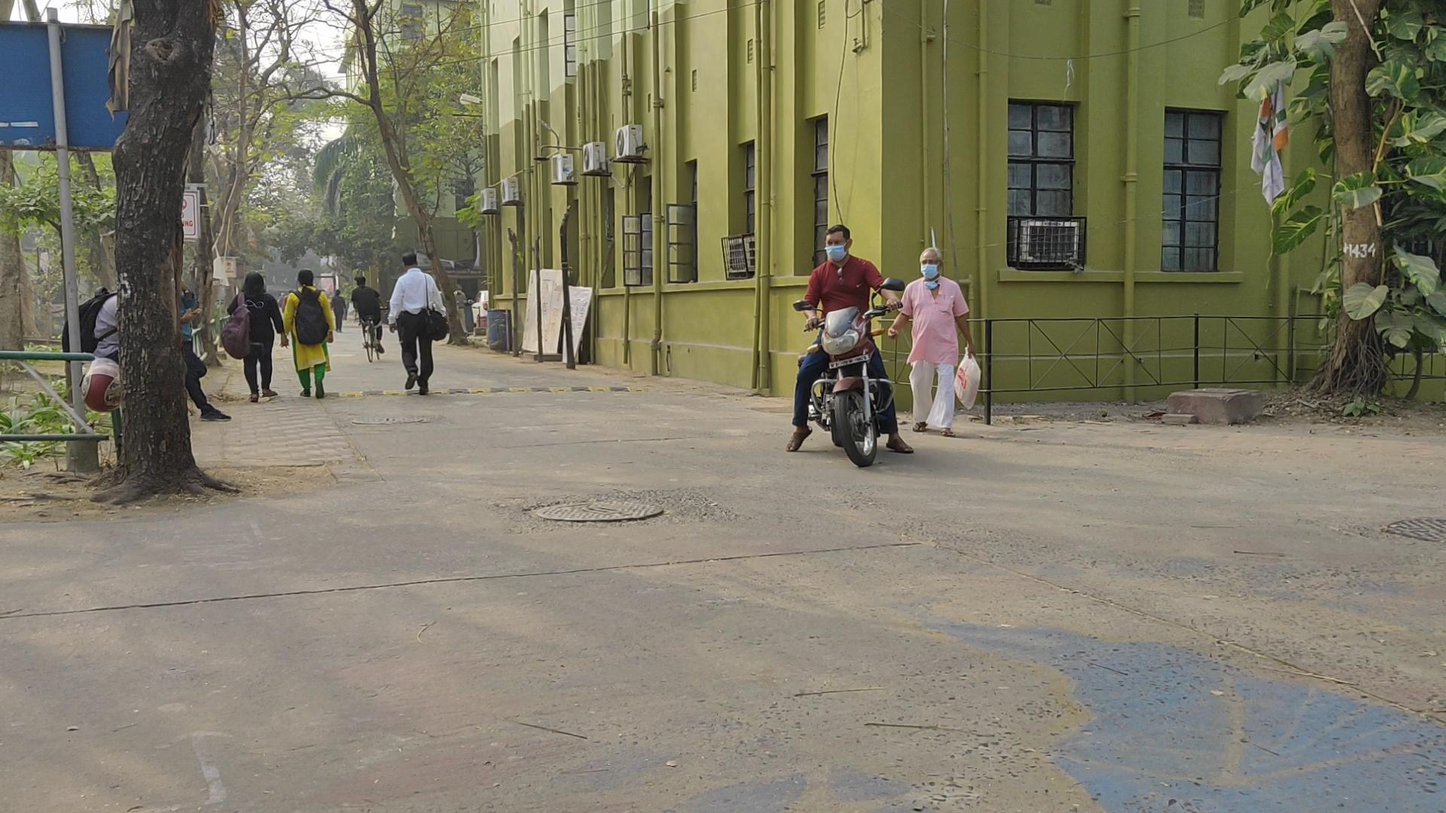bike: (787, 224, 914, 467), (349, 275, 388, 363)
